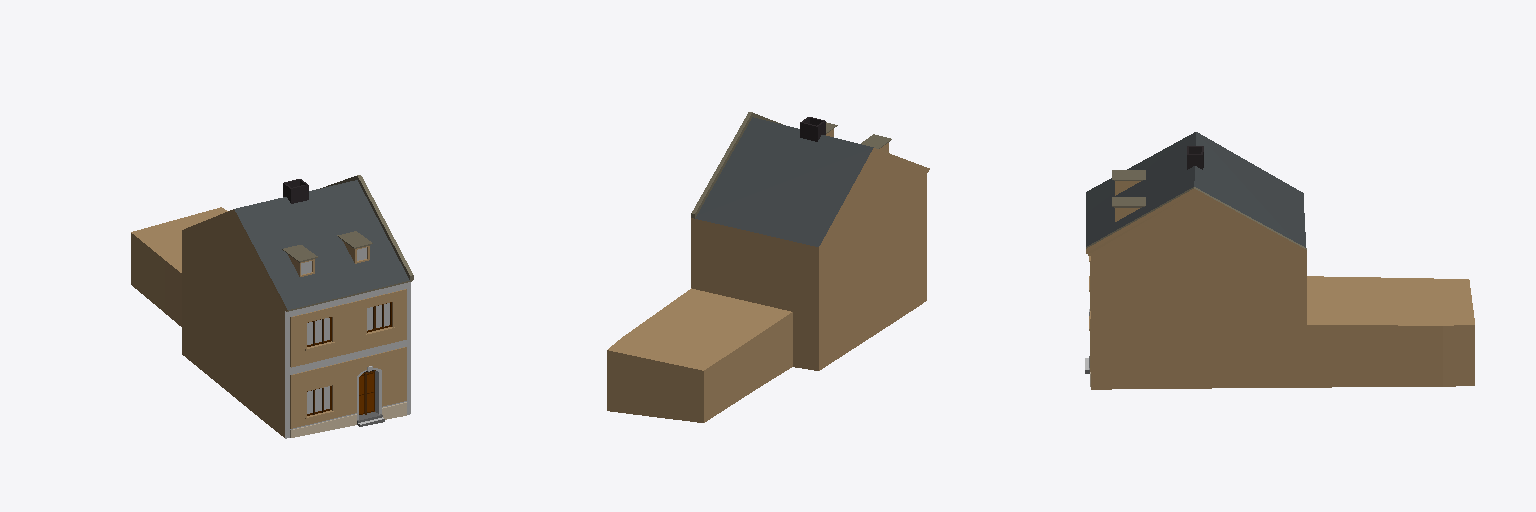
The picture shows the model from 3 angles: view 1: azimuth 30°, elevation 25°; view 2: azimuth 150°, elevation 25°; view 3: azimuth 270°, elevation 25°; orthographic projection.
Visible parts, largest first — view 1: Model; view 2: Model; view 3: Model.
Boxes of the visible parts, x1,y1,x2,y2 form: Model: [131, 175, 413, 438]; Model: [607, 112, 929, 422]; Model: [1085, 132, 1474, 389].
Size of the model in its own units: 0.8924 by 1.37 by 2.33.